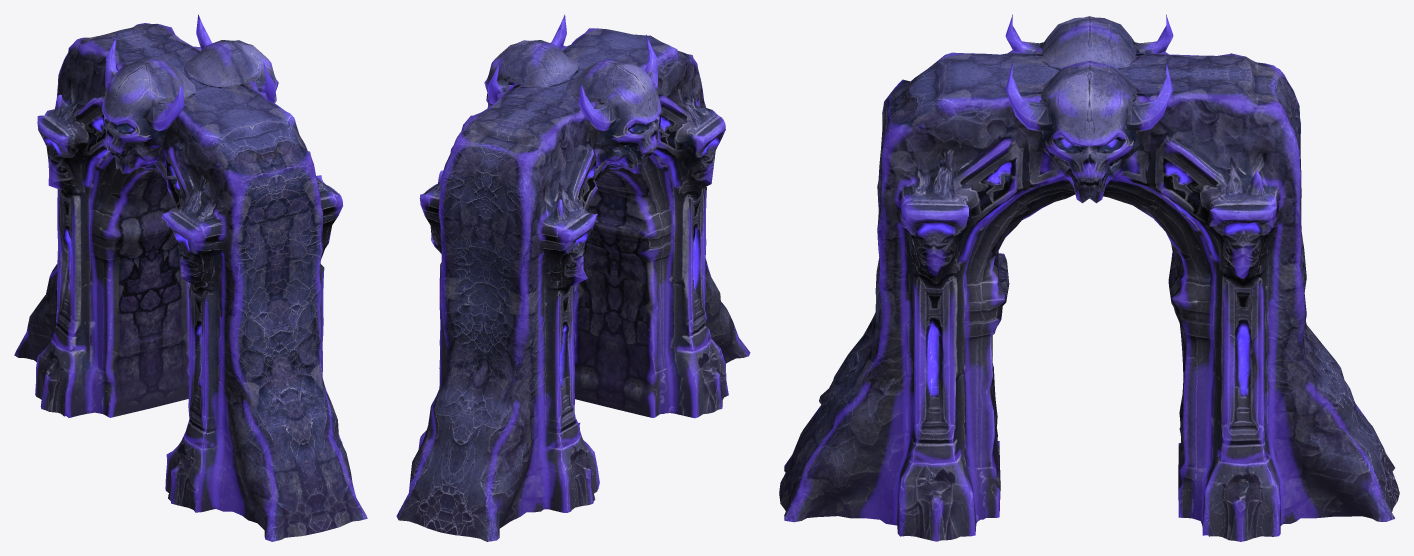
Rendered from BossGATE1.fbx.
3 views of the same model, side by side, from view 1: azimuth 30°, elevation 25°; view 2: azimuth 150°, elevation 25°; view 3: azimuth 270°, elevation 25° (orthographic). The views are drawn at different scales.
Visible parts, largest first — view 1: Gate, Skull; view 2: Gate, Skull; view 3: Gate, Skull.
Boxes of the visible parts, x1,y1,x2,y2 form: Gate: (14,23,367,541); Skull: (102,14,278,173); Gate: (396,28,750,541); Skull: (484,14,661,173); Gate: (779,47,1399,541); Skull: (1005,14,1173,203).
Bounding box in the file's own units: 2.92 × 6.38 × 7.86.
Materials: 1 (1 with a texture image).
